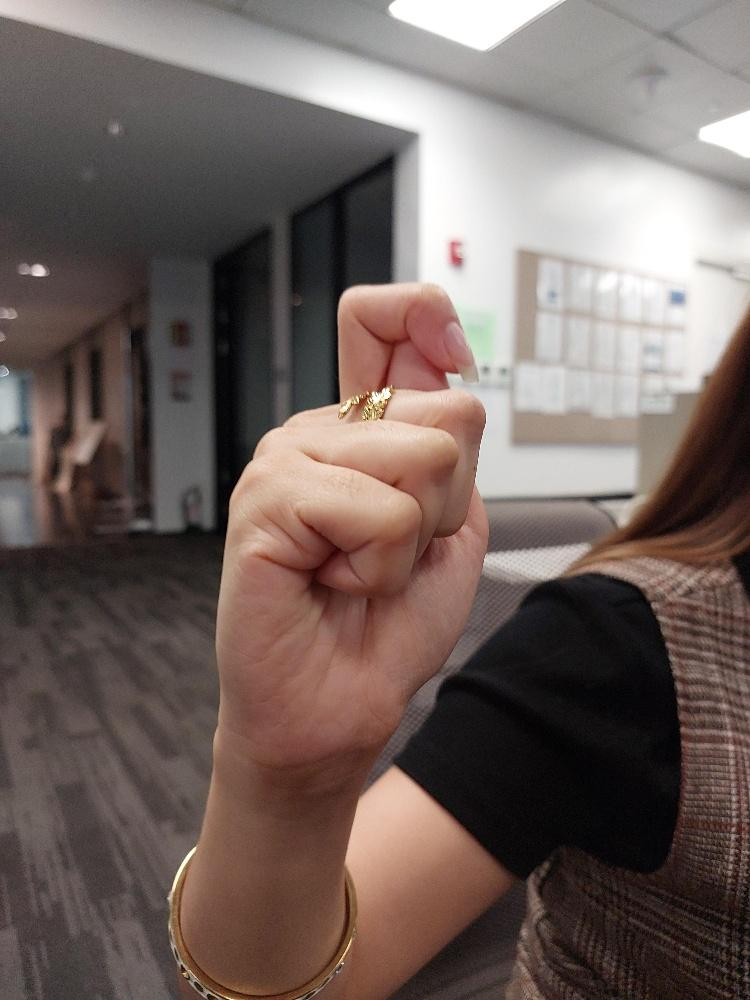t: (210, 278, 493, 780)
